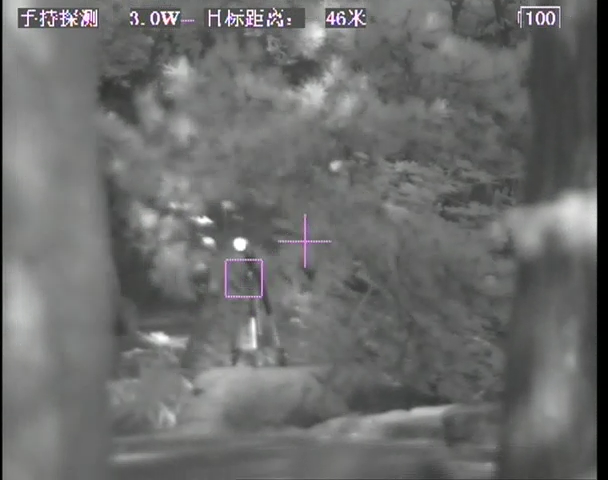my: (230, 236, 249, 254)
